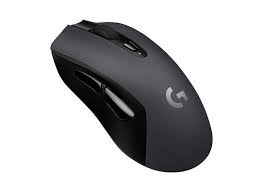mouse: (50, 16, 215, 177)
